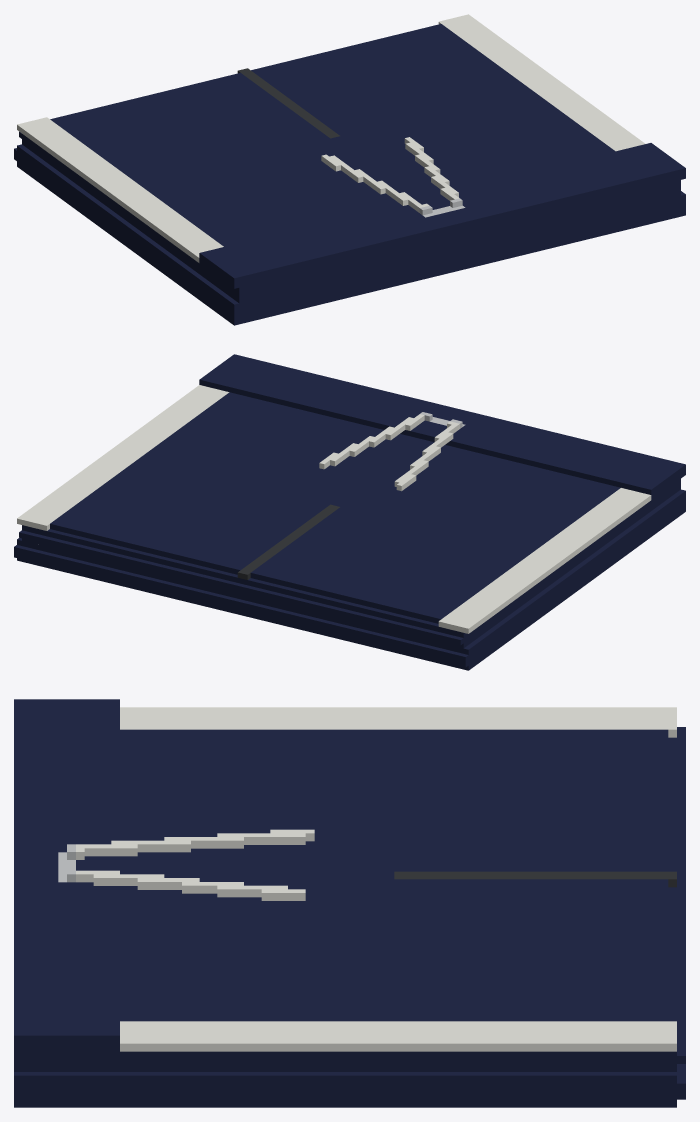
The model's file is b_shorts.glb.
3 views of the same model, one above another, from view 1: azimuth 30°, elevation 25°; view 2: azimuth 150°, elevation 25°; view 3: azimuth 270°, elevation 25° (orthographic). The views are drawn at different scales.
Parts seen in each view (by area): view 1: b_shorts:compound; view 2: b_shorts:compound; view 3: b_shorts:compound.
Part boxes in pixels (bbox=[...]): b_shorts:compound: bbox=[14, 14, 685, 325]; b_shorts:compound: bbox=[14, 354, 685, 670]; b_shorts:compound: bbox=[14, 699, 685, 1107].
Size of the model in its own units: 0.36 by 0.04 by 0.304.
